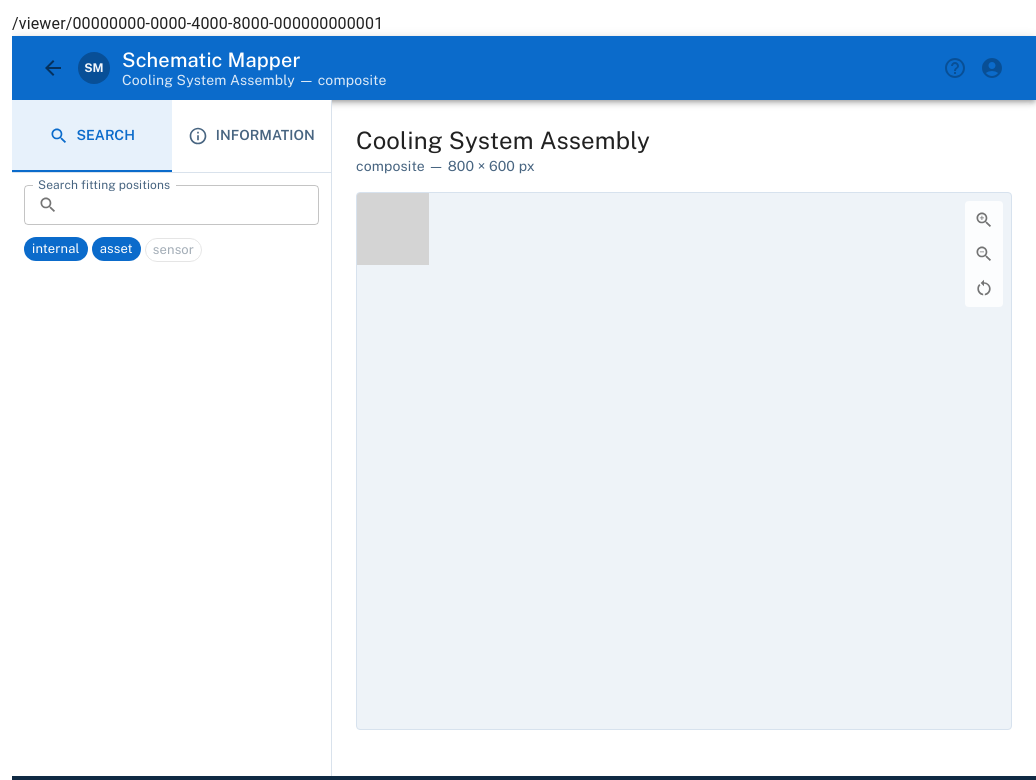
Scenario: ImageViewerPage › shows min-chars hint when query is 1 char
Type "p" into the field labelled "Search fitting positions" at (192, 205), box [66,185,319,225]
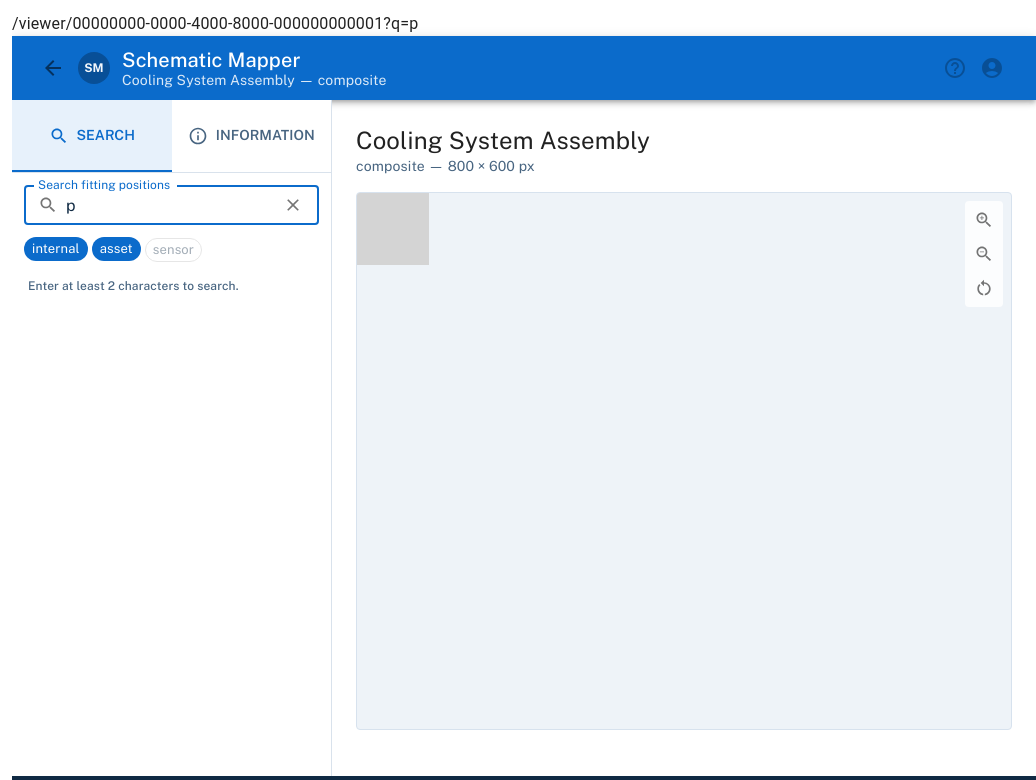
Now the text "Enter at least 2 characters to search." is shown, box [28,279,239,293]
